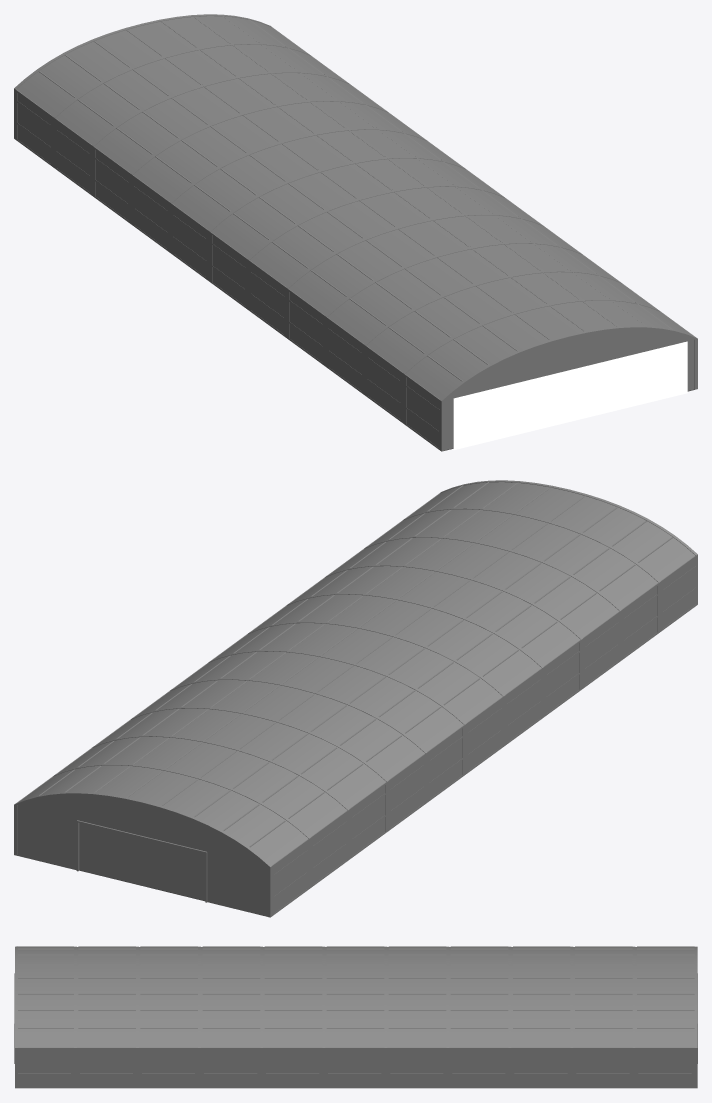
File: preview.glb
3 views of the same model, one above another, from view 1: azimuth 30°, elevation 25°; view 2: azimuth 150°, elevation 25°; view 3: azimuth 270°, elevation 25° (orthographic). The views are drawn at different scales.
Visible parts, largest first — view 1: Empty; view 2: Empty; view 3: Empty.
Boxes of the visible parts, x1,y1,x2,y2 form: Empty: [14, 14, 697, 451]; Empty: [14, 480, 697, 917]; Empty: [14, 946, 697, 1088].
Bounding box in the file's own units: 23.8 × 7.54 × 68.87.
Materials: 8 (5 with a texture image).
